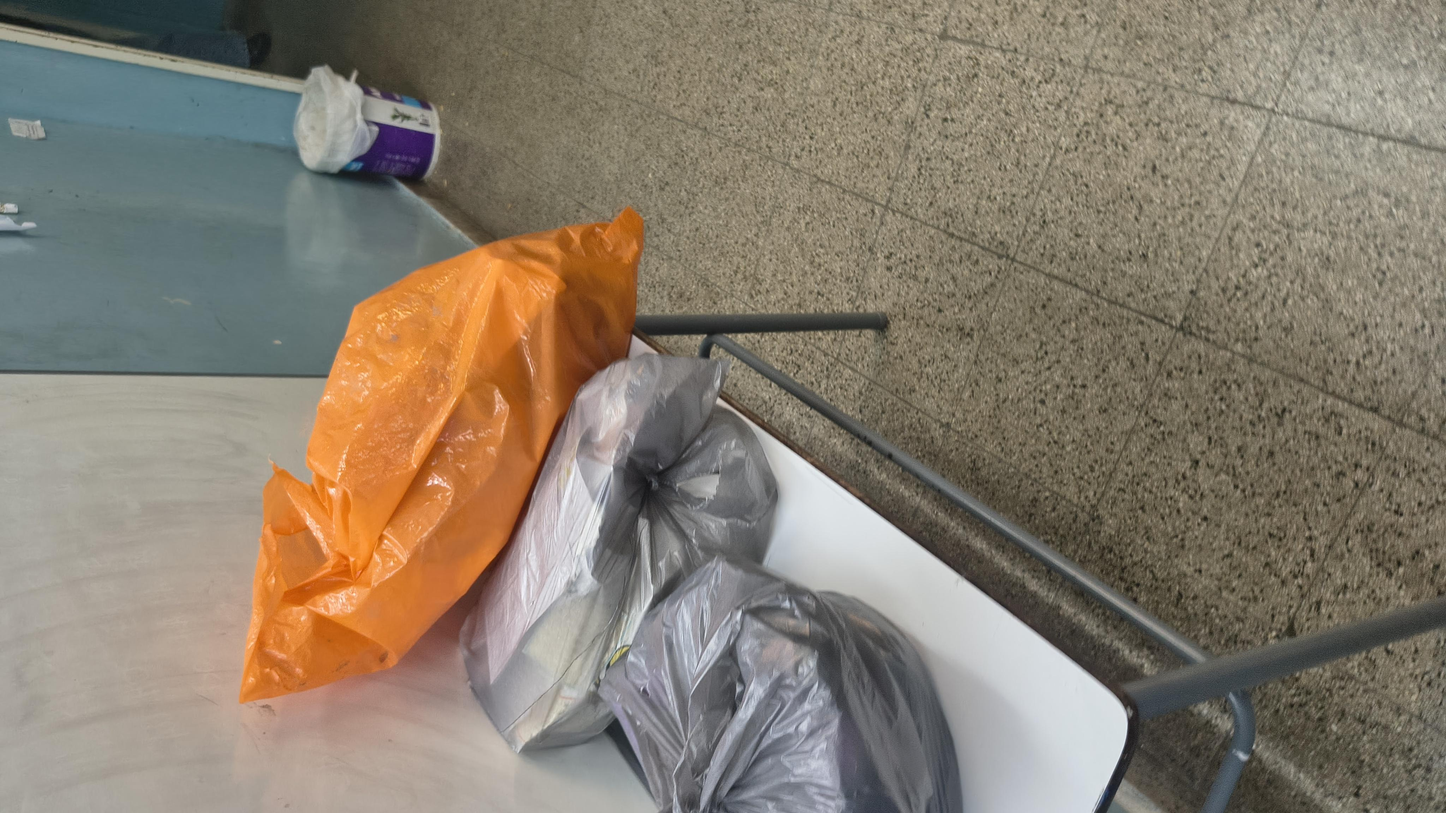Garbage: (195, 129, 1123, 373), (119, 258, 910, 429), (0, 335, 477, 558)
